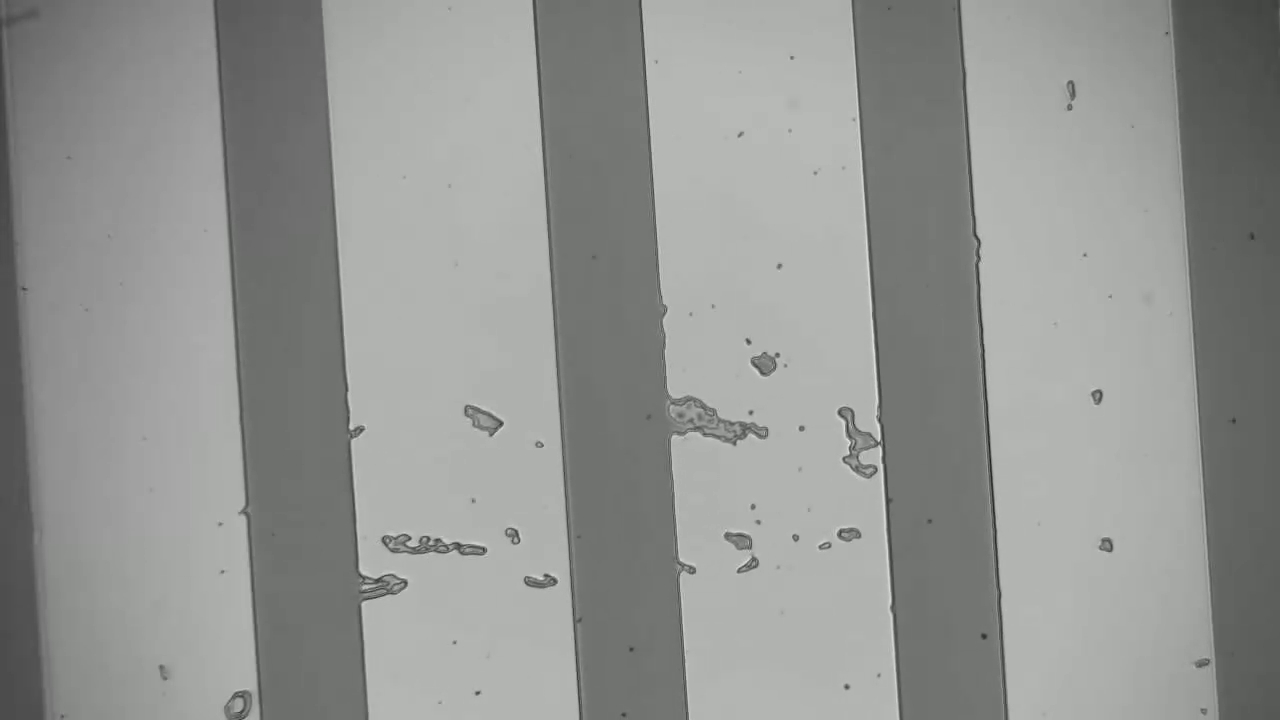edge_bite: (964, 229, 992, 263), (649, 297, 676, 323)
